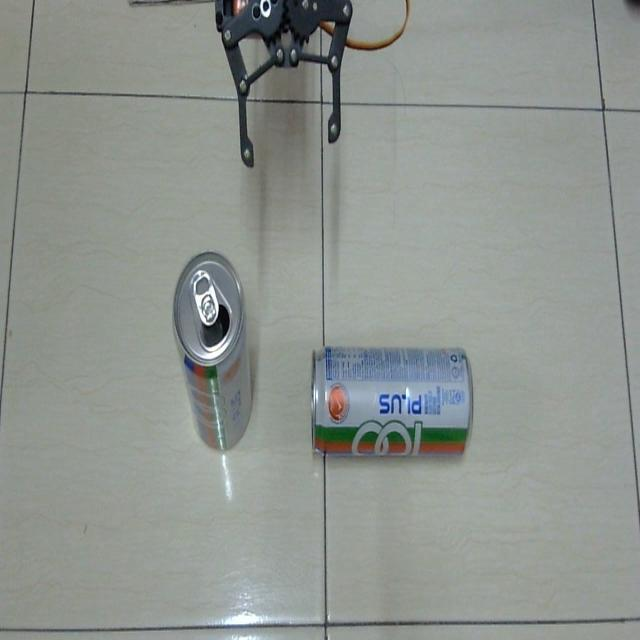Metal-laydown_90-rotation: (304, 335, 479, 466)
Metal-stand-rotation: (169, 246, 258, 456)
